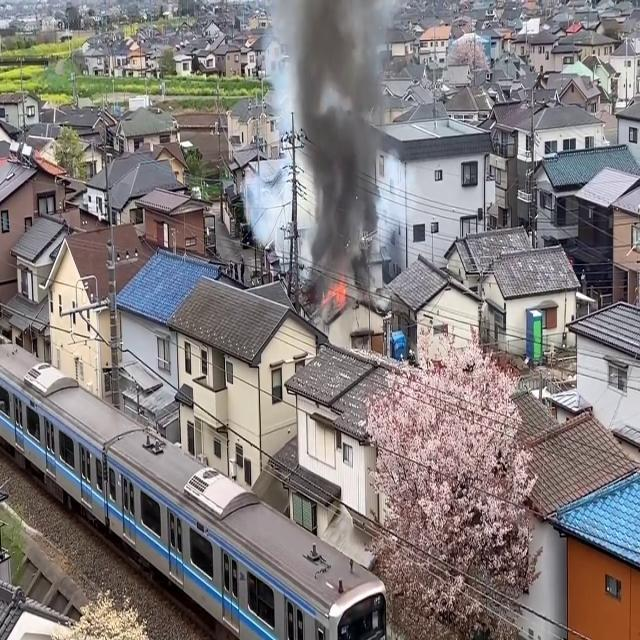Smoke: (288, 0, 395, 283)
